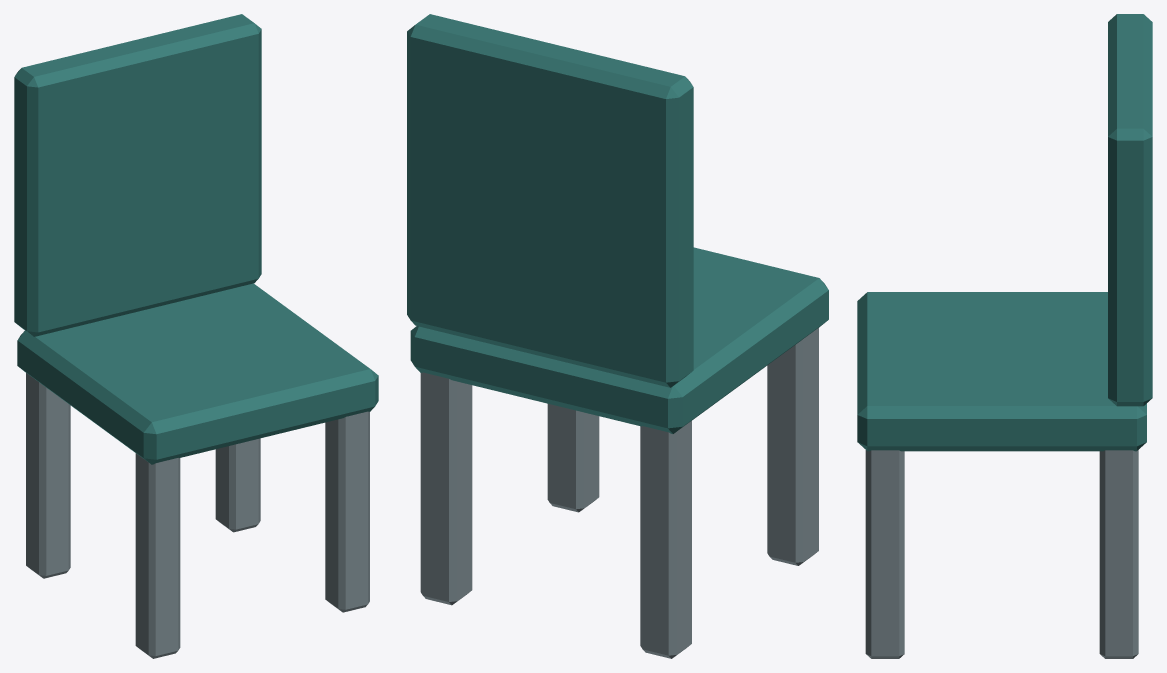
The model's file is Prop_Chair.fbx.
3 views of the same model, side by side, from view 1: azimuth 30°, elevation 25°; view 2: azimuth 150°, elevation 25°; view 3: azimuth 270°, elevation 25° (orthographic). The views are drawn at different scales.
Parts seen in each view (by area): view 1: Back, Seat, Leg.004, Leg.006, Leg.005, Leg.007; view 2: Back, Seat, Leg.007, Leg.005, Leg.004, Leg.006; view 3: Seat, Back, Leg.006, Leg.007.
Part boxes in pixels (x1,y1,x2,y2): Back: [14, 14, 261, 336]; Seat: [17, 283, 378, 464]; Leg.004: [135, 453, 180, 658]; Leg.006: [325, 411, 369, 612]; Leg.005: [26, 373, 70, 578]; Leg.007: [215, 438, 260, 532]; Back: [407, 14, 693, 387]; Seat: [410, 247, 828, 433]; Leg.007: [420, 372, 472, 605]; Leg.005: [640, 421, 691, 658]; Leg.004: [767, 328, 818, 565]; Leg.006: [547, 404, 599, 512]; Seat: [857, 292, 1146, 451]; Back: [1108, 14, 1152, 406]; Leg.006: [865, 450, 904, 658]; Leg.007: [1099, 450, 1138, 658].
Size of the model in its own units: 0.52 by 1.05 by 0.53.
